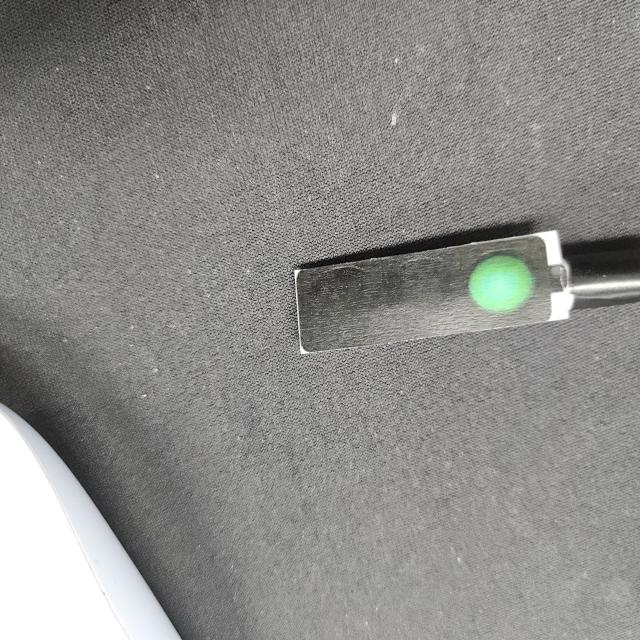traffic light: (299, 221, 575, 352)
